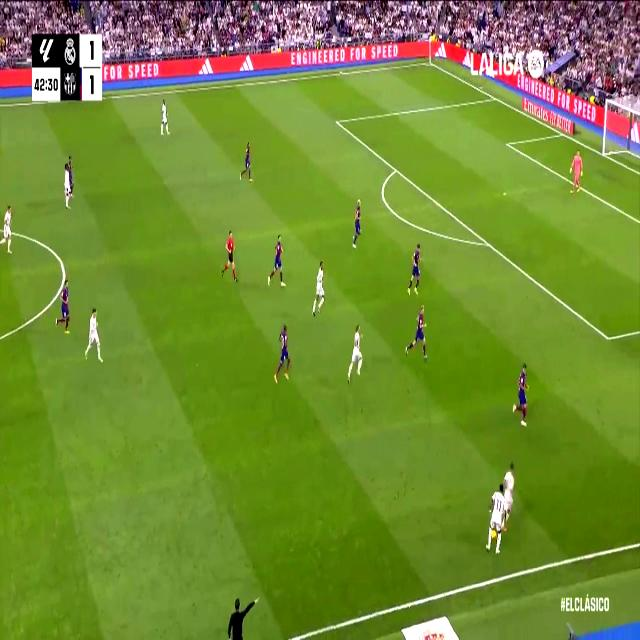bigarea_bottom_inner: (603, 326, 613, 350)
bigarea_top_inner: (333, 113, 341, 129)
bigarea_top_outter: (490, 90, 498, 104)
bottom_arc_area_intersection: (483, 234, 492, 252)
corner: (425, 57, 434, 67)
smallarea_top_inner: (503, 137, 511, 150)
top_arc_area_intersection: (392, 161, 400, 177)
